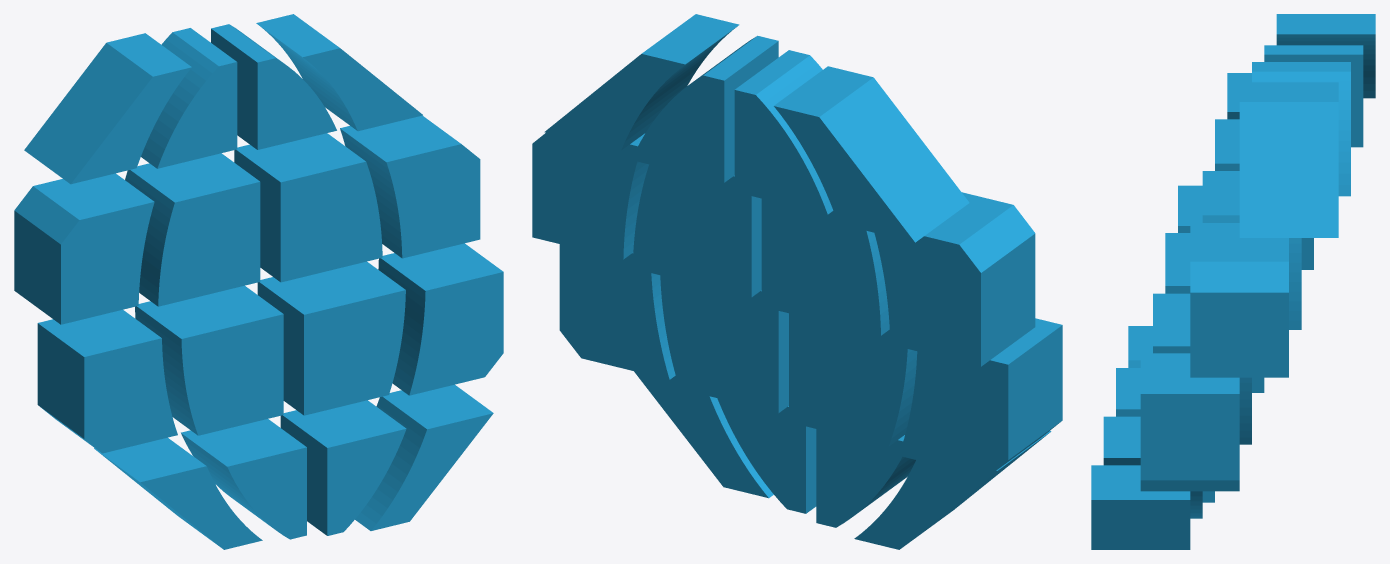
The model's file is cme.gltf.
3 views of the same model, side by side, from view 1: azimuth 30°, elevation 25°; view 2: azimuth 150°, elevation 25°; view 3: azimuth 270°, elevation 25° (orthographic). The views are drawn at different scales.
Size of the model in its own units: 4.98 by 5 by 2.88.
